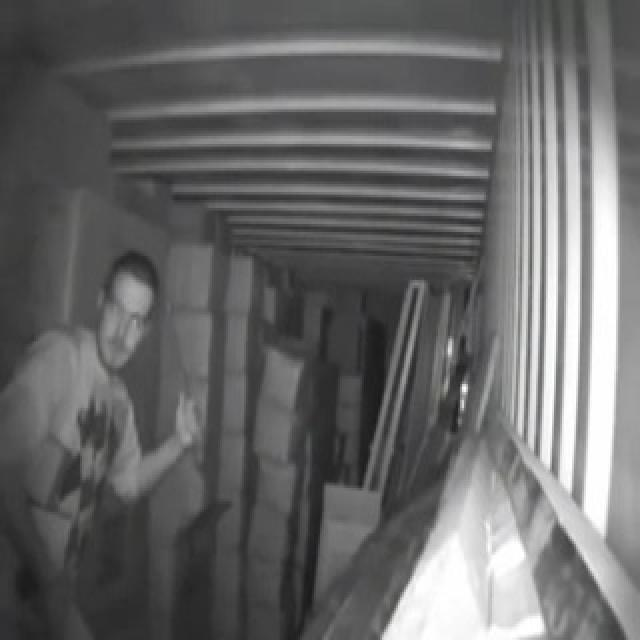thief: (6, 239, 201, 640)
